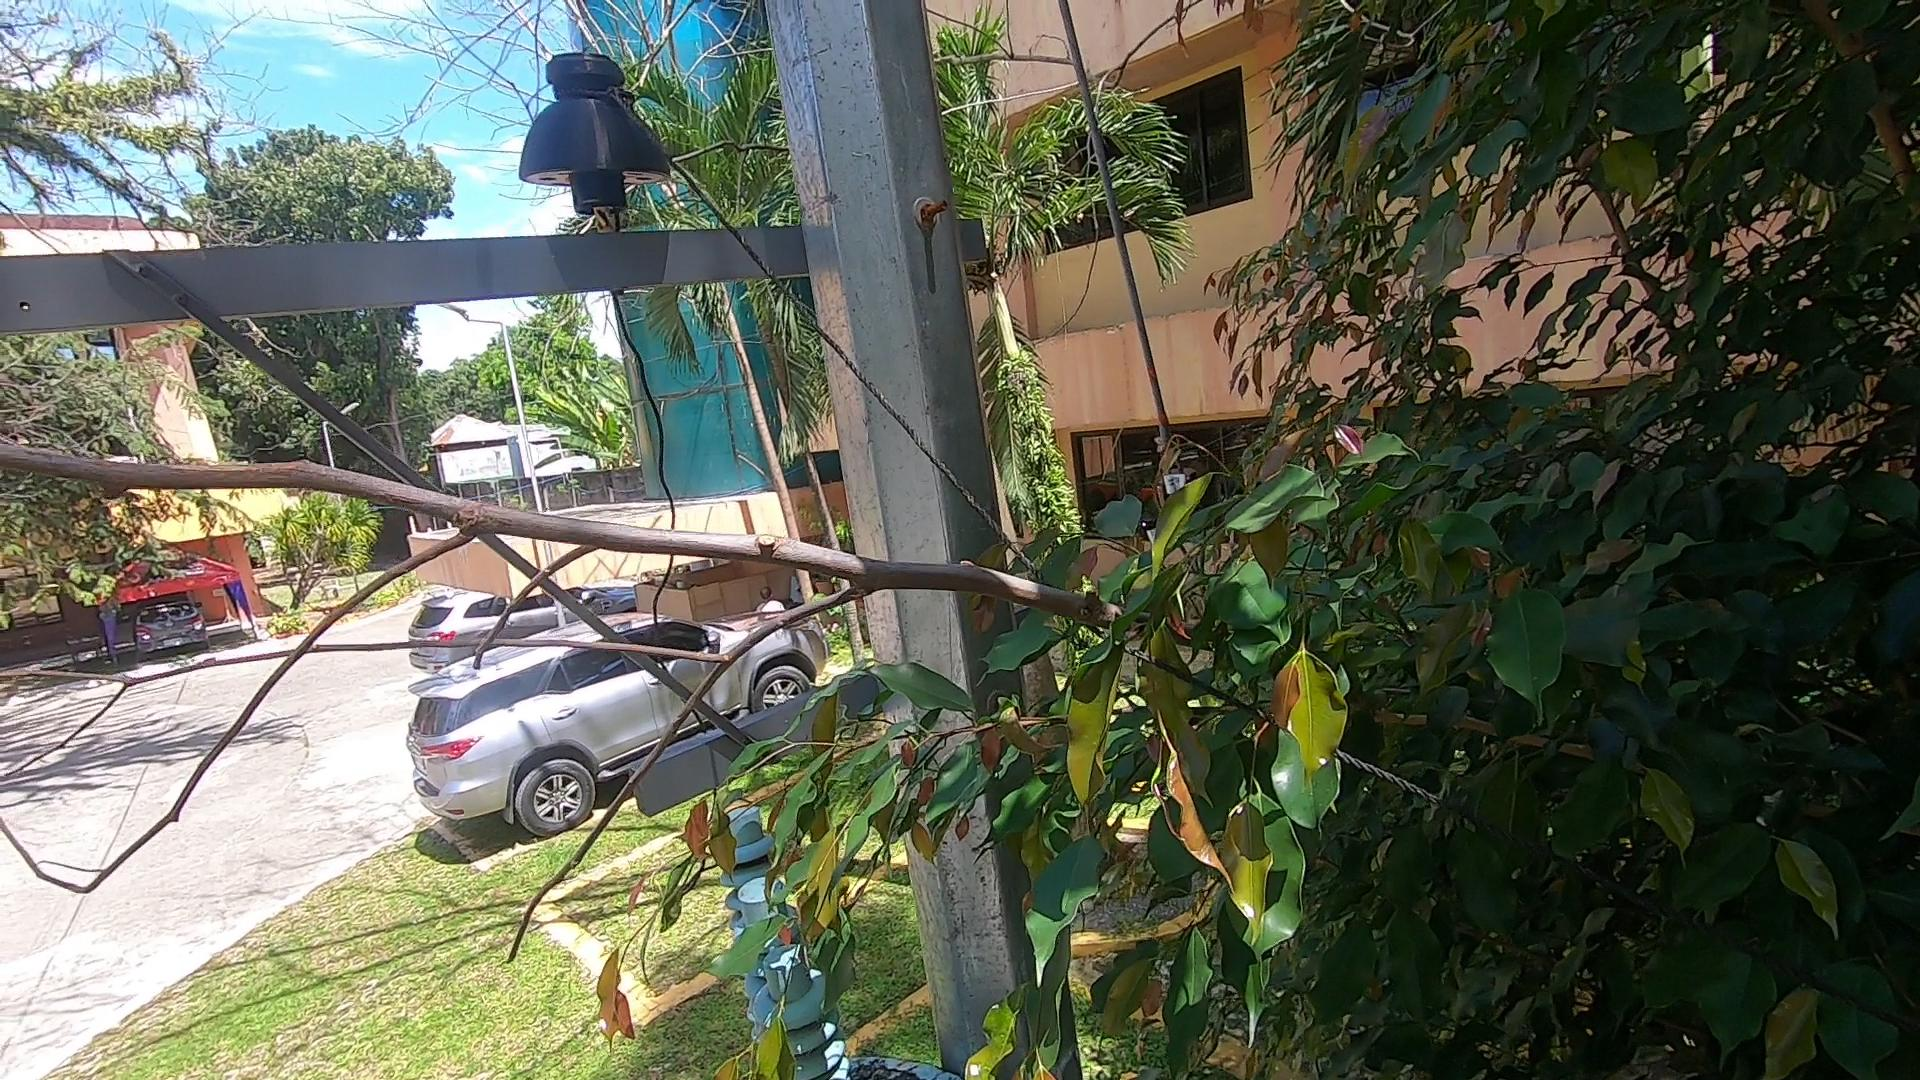tree branch: (1, 427, 1323, 1004)
